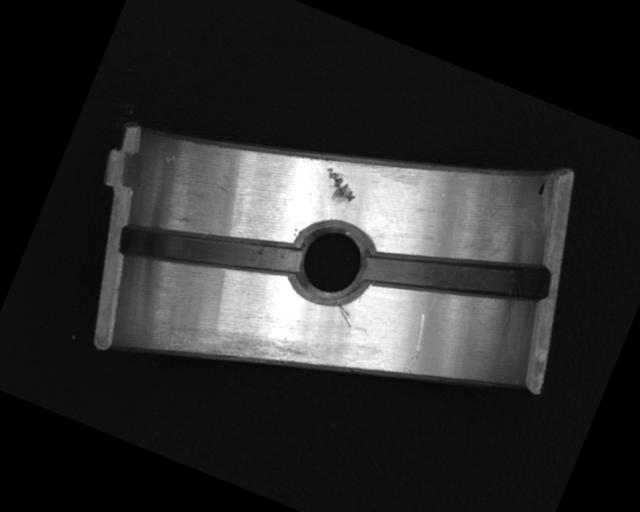blot: (535, 177, 548, 198)
bruise: (314, 166, 362, 210), (213, 180, 237, 199), (161, 150, 178, 166)
gap: (361, 207, 551, 345), (115, 189, 303, 315)
hole: (279, 213, 382, 316)
nick: (396, 311, 434, 377), (331, 305, 356, 328)
scratch: (157, 290, 329, 408)
